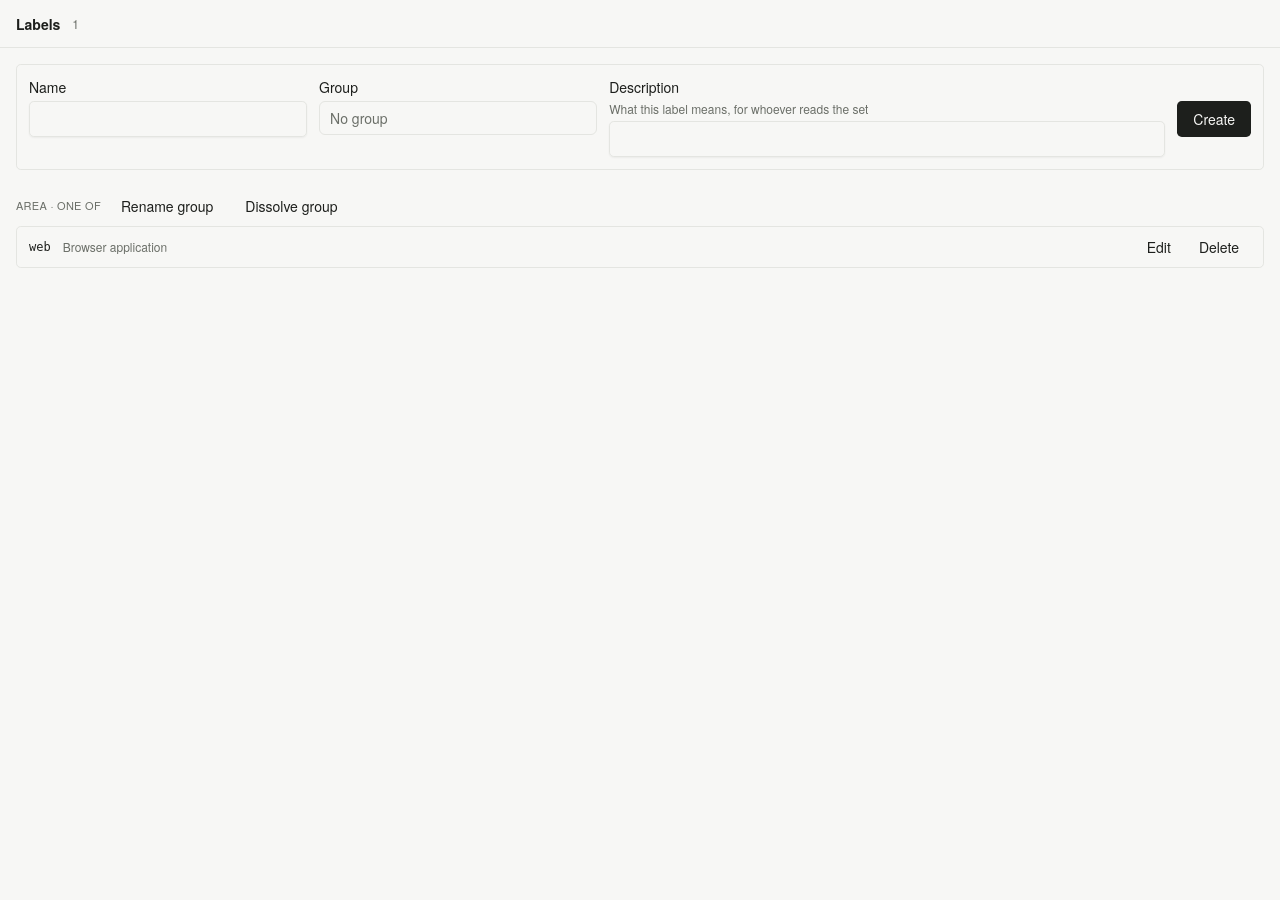
it: still offers the way back when the reload after a delete fails
The image size is (1280, 900).
Click the button "Delete" at point(1219, 247), box [1187,231,1251,263]
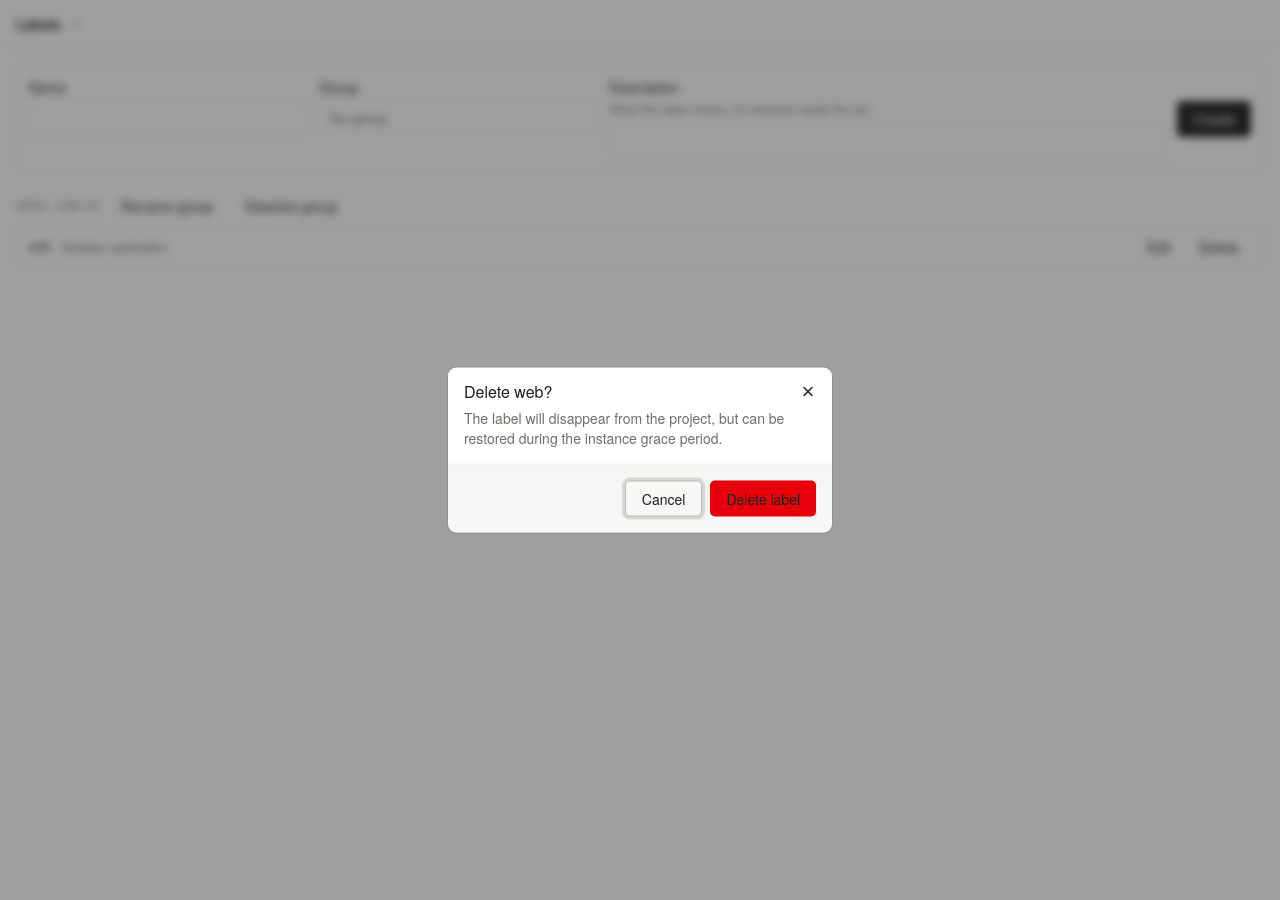
Click the button "Delete label" at point(763, 498), box [710,480,816,516]
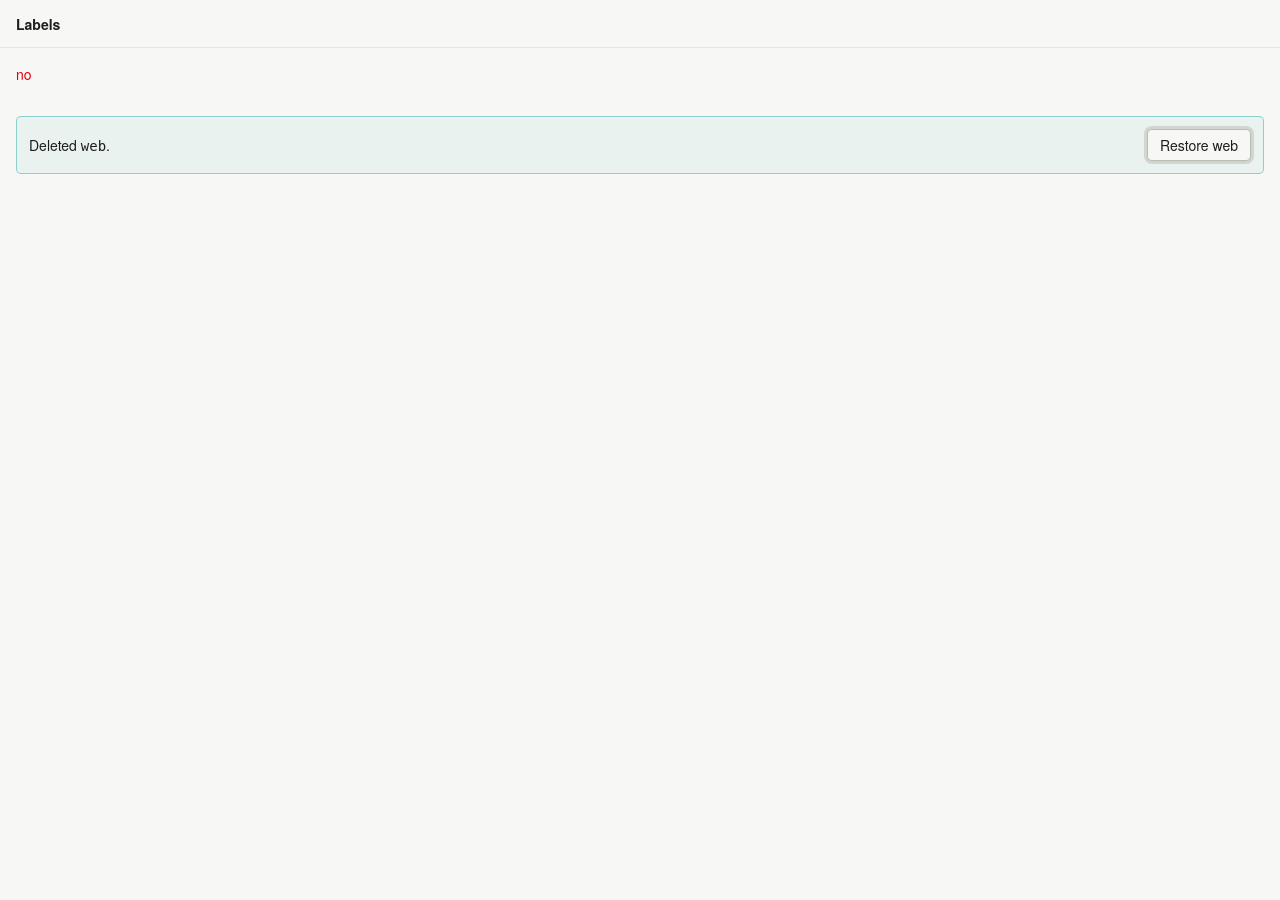
Check: the dialog is gone
